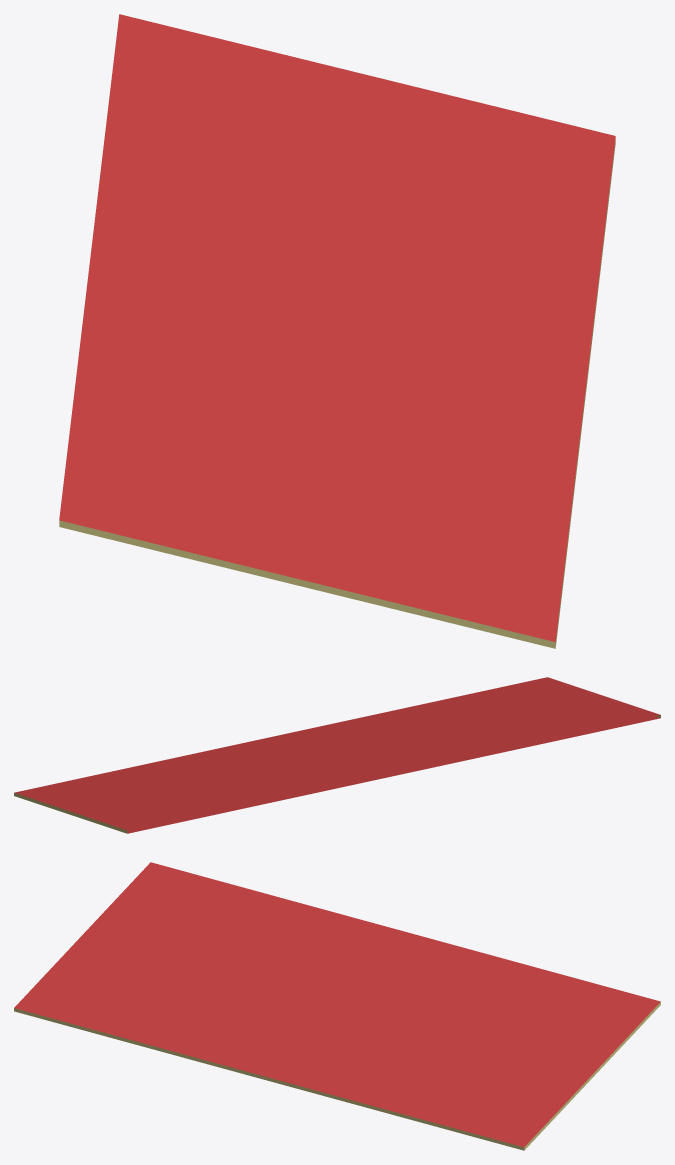
3 views of the same model, one above another, from view 1: azimuth 30°, elevation 25°; view 2: azimuth 150°, elevation 25°; view 3: azimuth 270°, elevation 25° (orthographic). The views are drawn at different scales.
Bounding box in the file's own units: 14.48 × 17.31 × 1.77.
